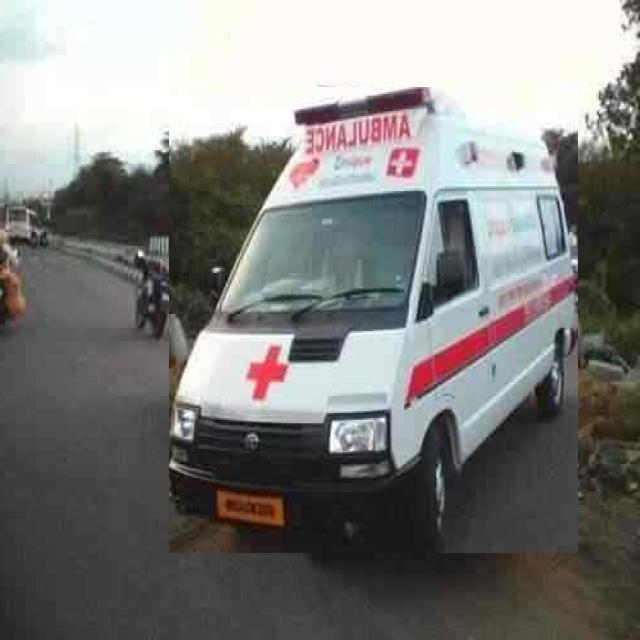emergency: (169, 87, 578, 553)
